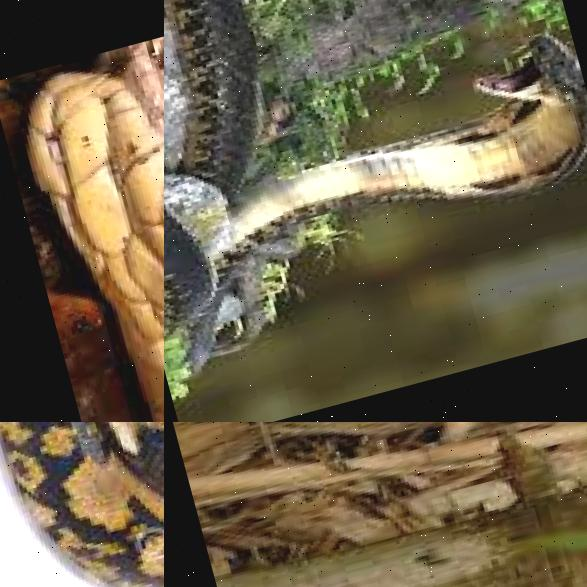snake: (164, 0, 587, 376), (0, 0, 164, 422), (0, 422, 164, 587)
